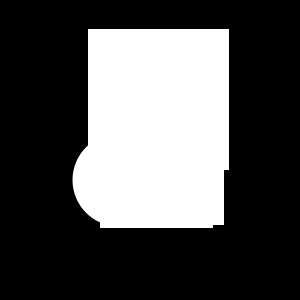circle: (88, 29, 229, 170), (100, 115, 213, 228), (124, 125, 224, 225)
rectangle: (72, 133, 166, 226)
